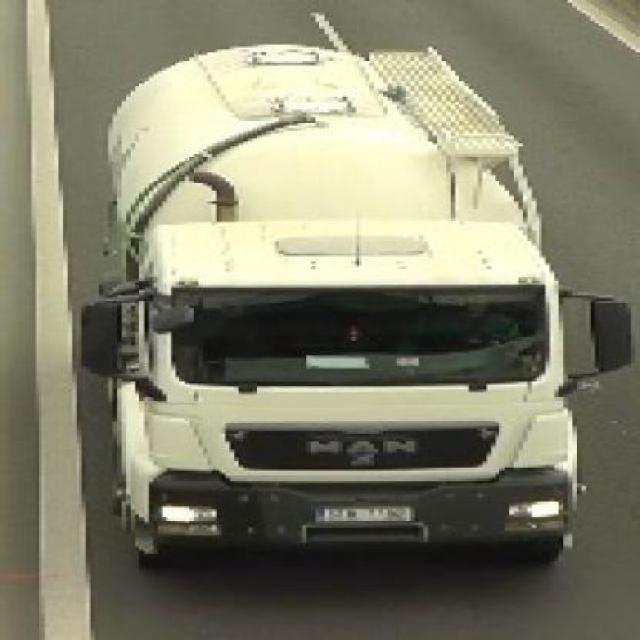truck: (87, 32, 640, 586)
